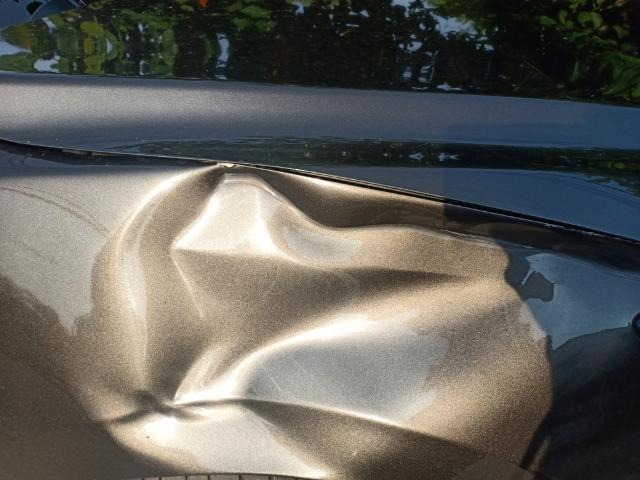dent: (86, 166, 541, 479)
